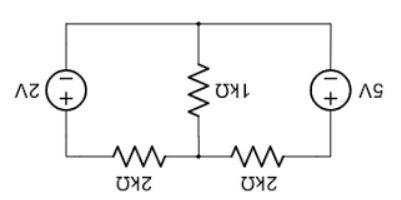resistor: (181, 53, 213, 126), (227, 135, 291, 170), (104, 136, 169, 169)
